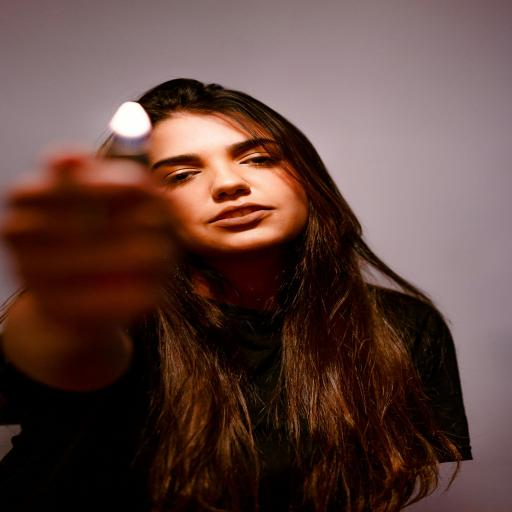lighter: (76, 80, 179, 182)
